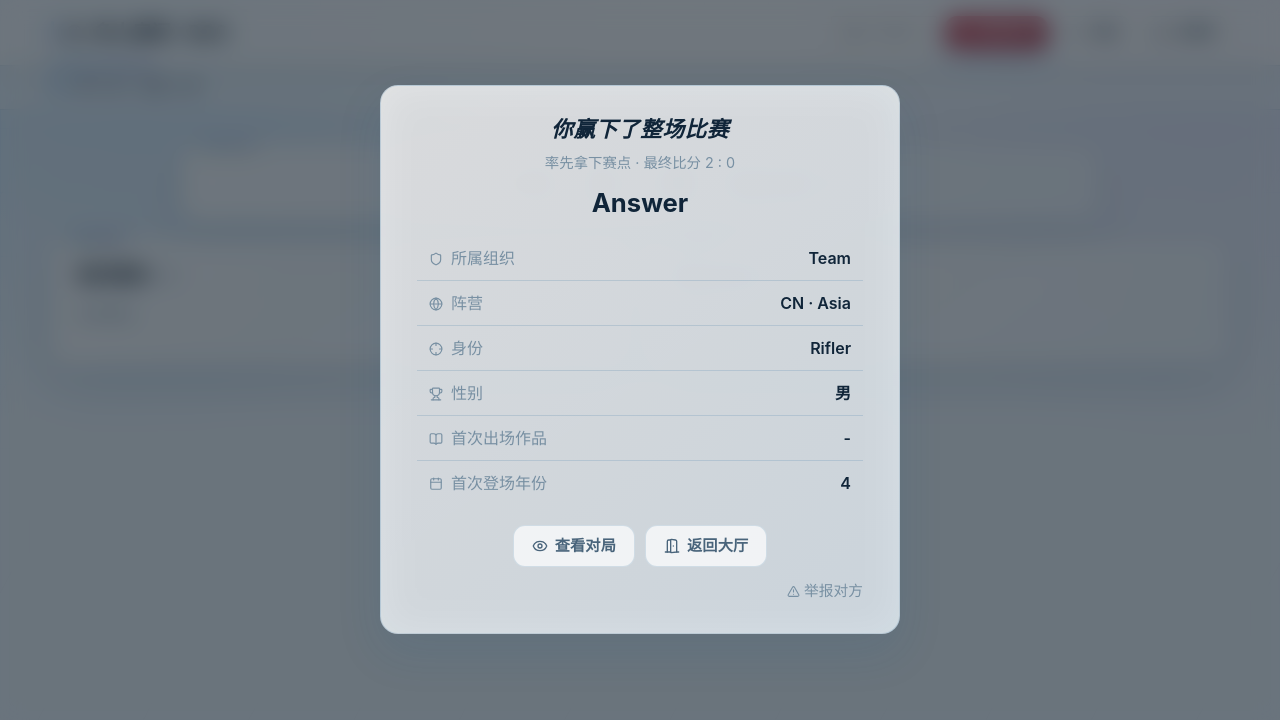
Scenario: MultiRoom replay › shows the report entry only after matchmaking settlement and submits it once
Expected: the 9th icon is shown, [787,585,800,598]
Click the button "举报对方" at (834, 592), box [417,578,863,606]
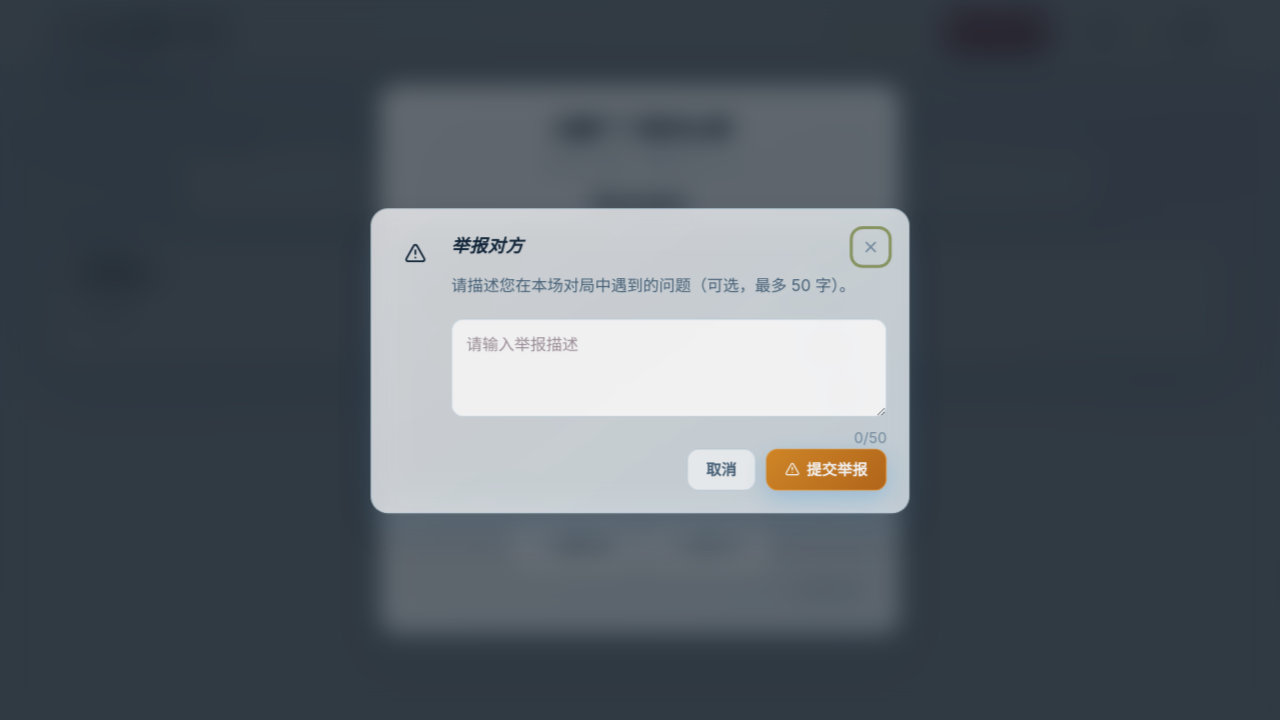
Type "疑似使用自动化脚本" into the text box with placeholder "请输入举报描述" at (669, 367), box [451,318,887,416]
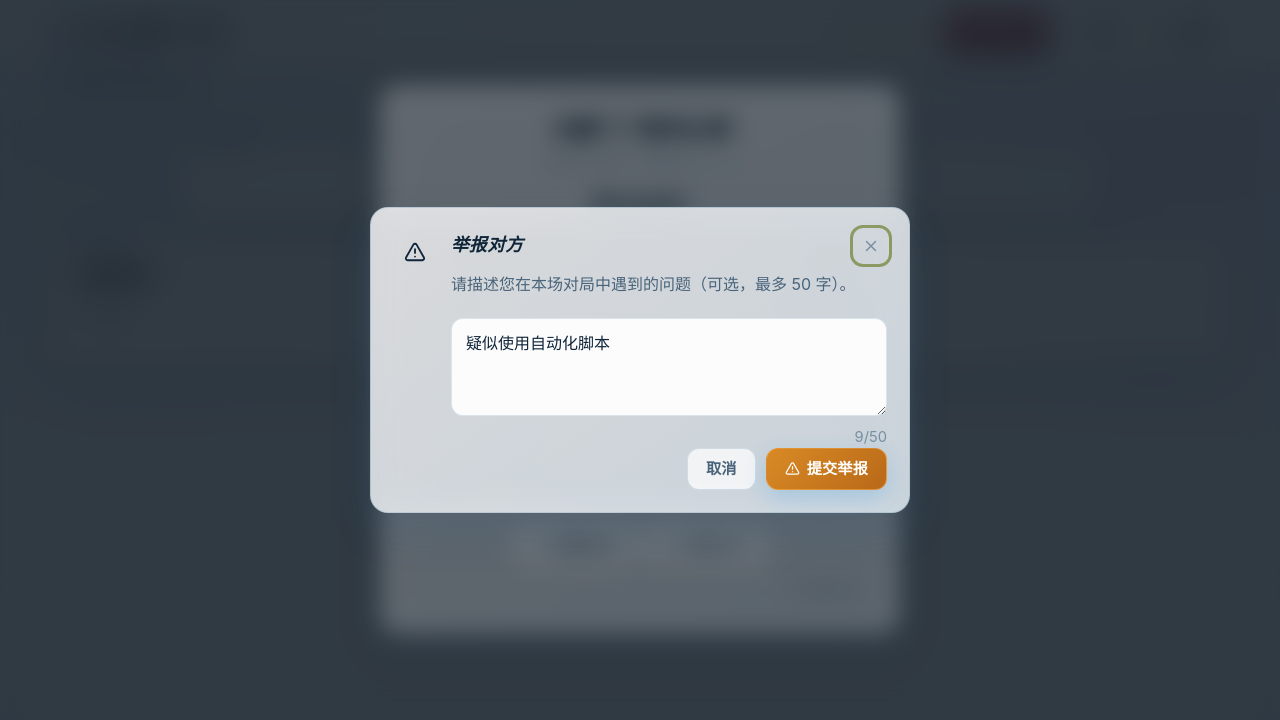
Click the button "提交举报" at (826, 469), box [766,448,887,490]
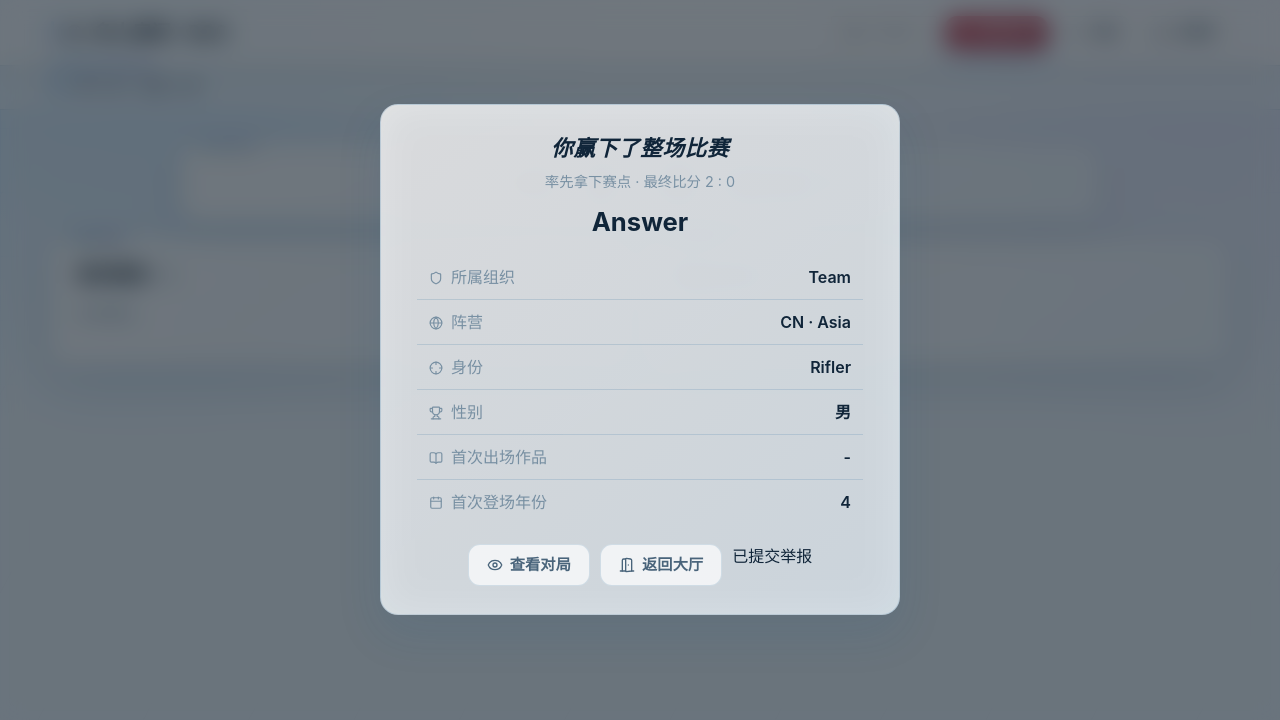
Result: the text "已提交举报" is shown at [732,547,812,567]
Result: the button "举报对方" is gone
